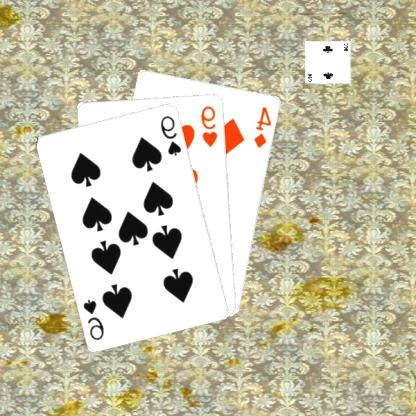4D: (254, 103, 274, 149)
9H: (200, 102, 221, 148)
9S: (160, 112, 185, 158), (82, 296, 107, 341)
